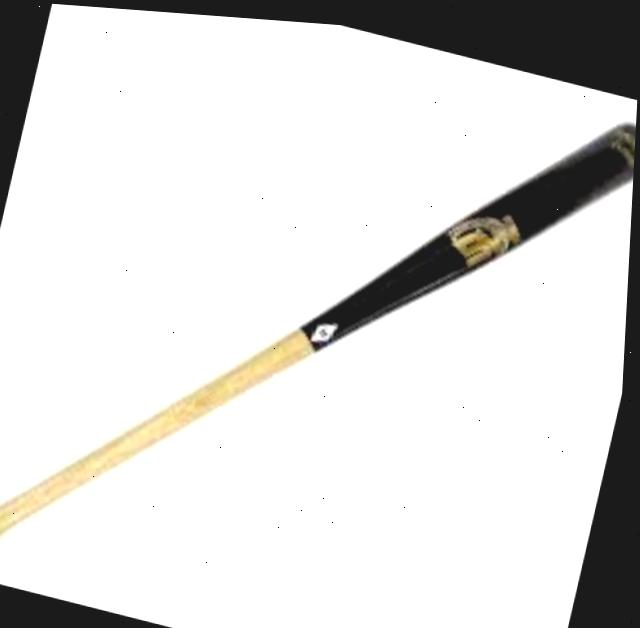baseball bat: (0, 108, 637, 551)
